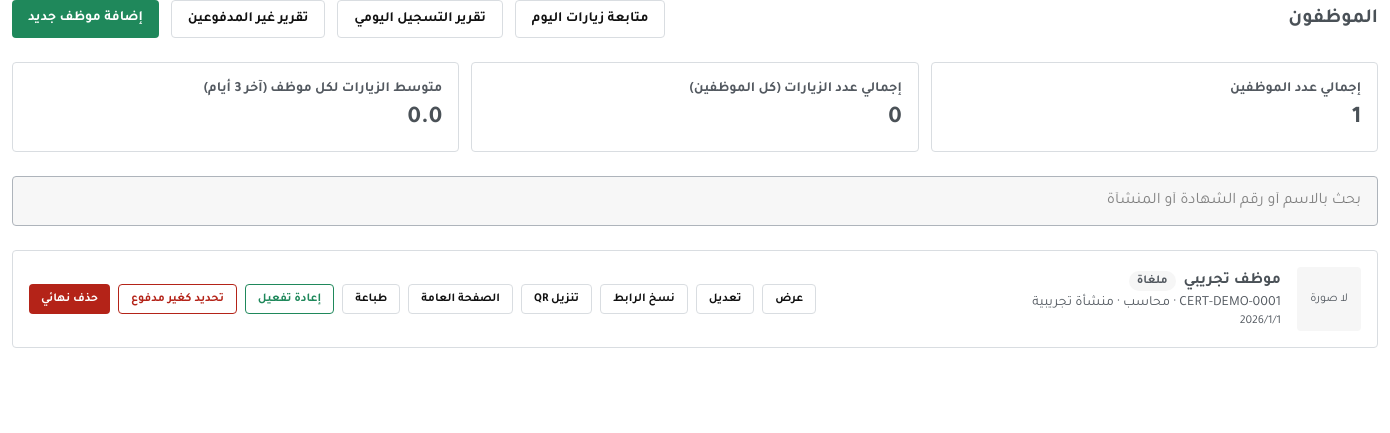
Test: EmployeeListPage deactivate/reactivate › shows an error message instead of failing silently when reactivation fails
The image size is (1390, 433).
Check: the text "موظف تجريبي" is shown, box [1184, 269, 1281, 293]
Click the button "إعادة تفعيل": click(289, 299) [245, 284, 334, 314]
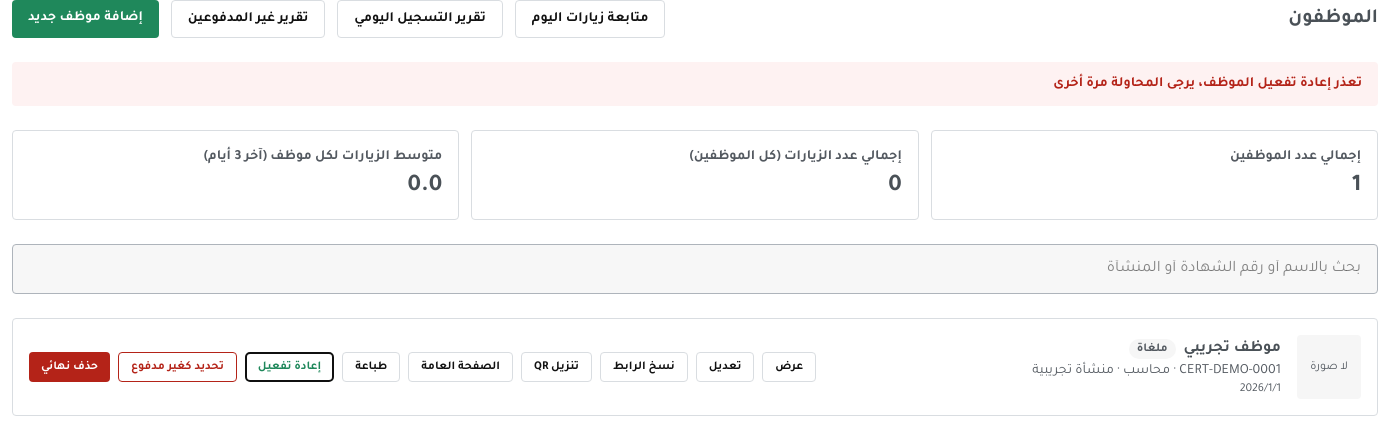
Check: the button "إعادة تفعيل" is shown, box [245, 352, 334, 382]
Check: the text "تعذر إعادة تفعيل الموظف، يرجى المحاولة مرة أخرى" is shown, box [12, 62, 1378, 106]
